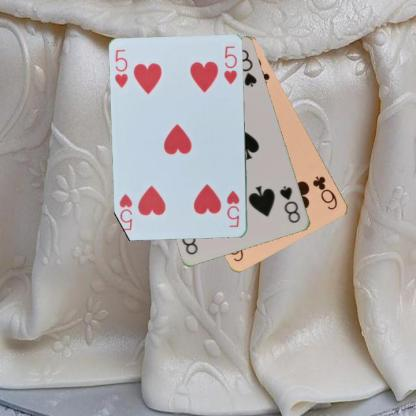5h: (112, 48, 130, 90), (224, 188, 241, 229)
6c: (310, 173, 339, 211)
8s: (278, 183, 302, 225)
